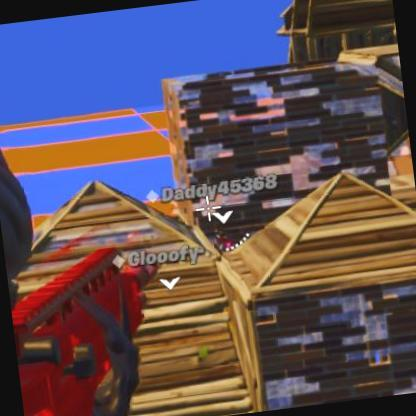person: (210, 225, 235, 256)
